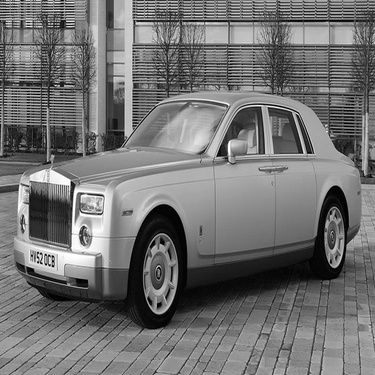car: (16, 80, 372, 311)
